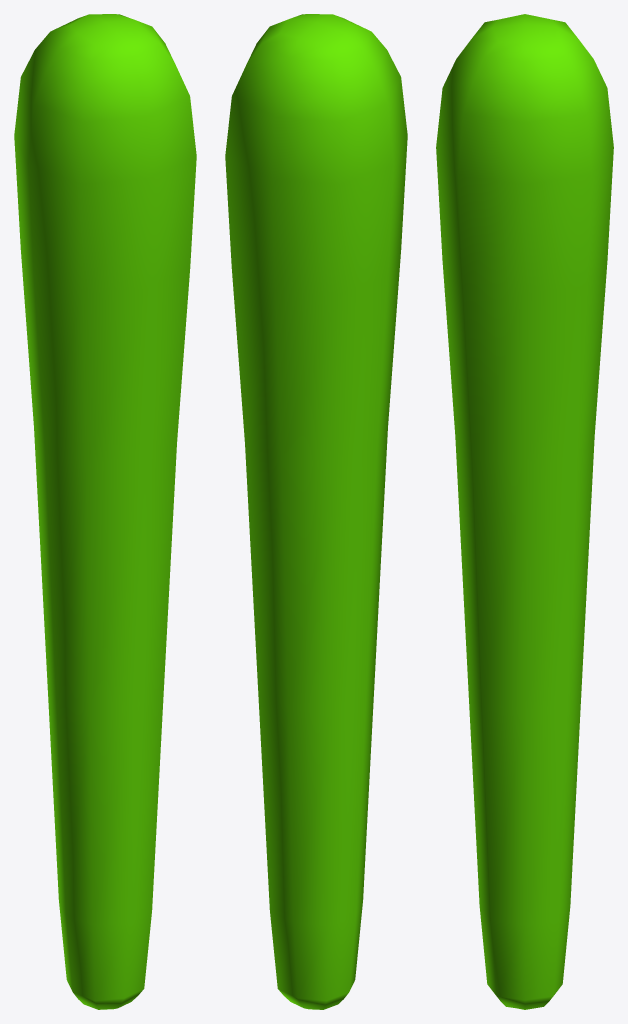
Rendered from laser.fbx.
The picture shows the model from 3 angles, left to right: view 1: azimuth 30°, elevation 25°; view 2: azimuth 150°, elevation 25°; view 3: azimuth 270°, elevation 25°; orthographic projection.
Visible parts, largest first — view 1: pCube1; view 2: pCube1; view 3: pCube1.
Boxes of the visible parts, x1,y1,x2,y2 form: pCube1: (14,14,196,1009); pCube1: (225,14,407,1009); pCube1: (436,14,613,1009).
Bounding box in the file's own units: 0.9327 × 5.68 × 0.9327.
